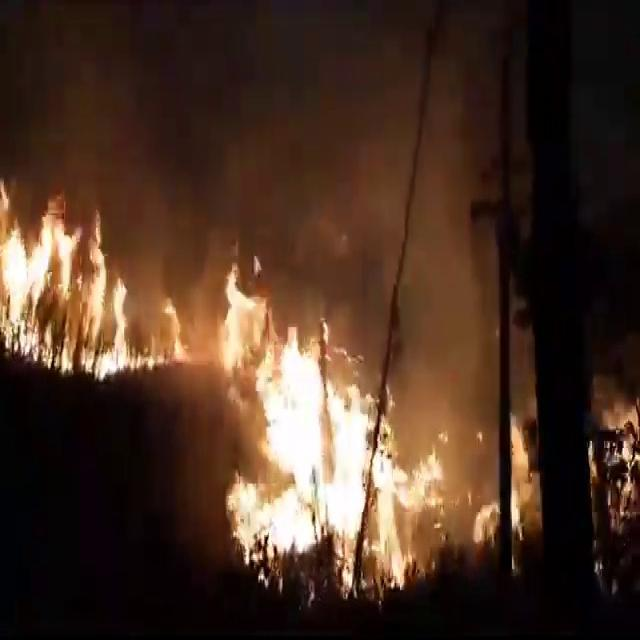Fire: (218, 247, 443, 585), (4, 179, 188, 377), (506, 420, 533, 524)
Smoke: (300, 12, 526, 332)
